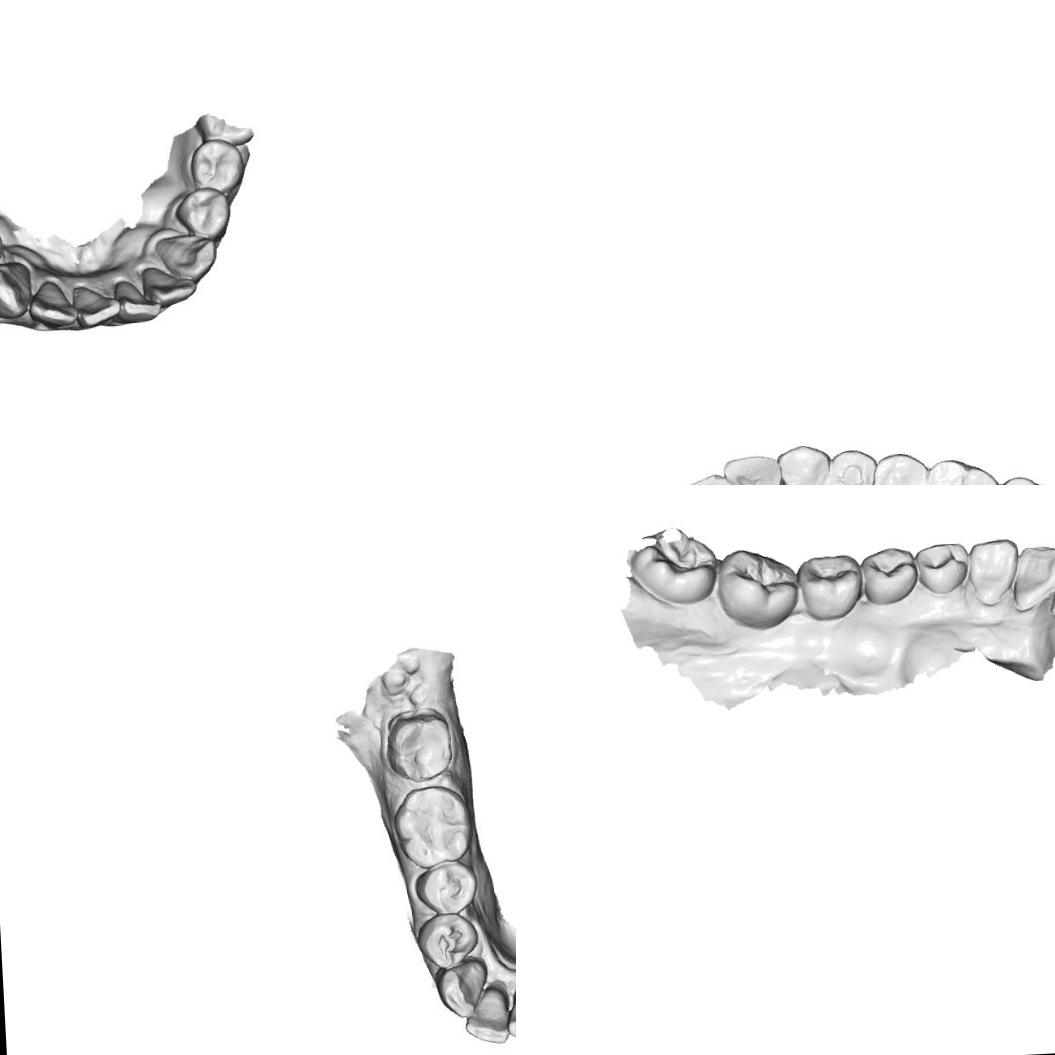canine: (433, 960, 489, 1023), (967, 536, 1018, 605), (156, 230, 218, 280), (776, 441, 829, 485), (0, 261, 30, 320)
crown: (378, 706, 460, 784)
incisor: (1007, 539, 1055, 605), (465, 981, 511, 1045), (32, 271, 76, 334), (72, 281, 126, 329), (120, 274, 165, 328), (146, 262, 198, 306), (719, 450, 782, 485), (501, 981, 516, 1043), (1045, 549, 1055, 612)
molar: (710, 545, 802, 630), (628, 526, 718, 606), (394, 784, 474, 866), (796, 550, 864, 619), (917, 454, 1004, 485)
premolar: (858, 543, 915, 607), (168, 185, 230, 243), (912, 536, 969, 596), (415, 912, 478, 965), (187, 138, 246, 194), (412, 860, 474, 912), (868, 449, 934, 485), (822, 448, 880, 485)
